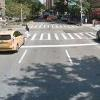Crosswalk: (32, 21, 94, 47)
